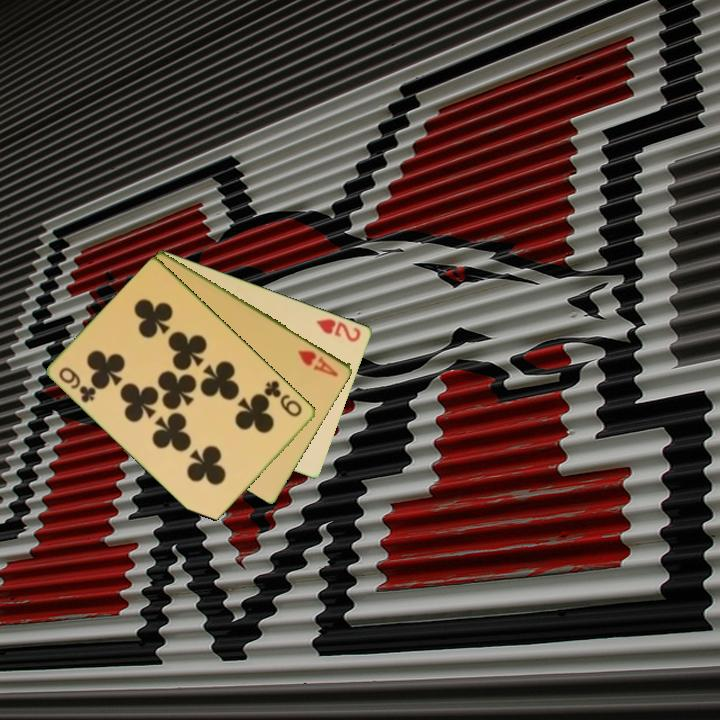2h: (313, 315, 364, 345)
9c: (55, 363, 100, 406), (261, 377, 305, 420)
Ah: (294, 346, 342, 380)
